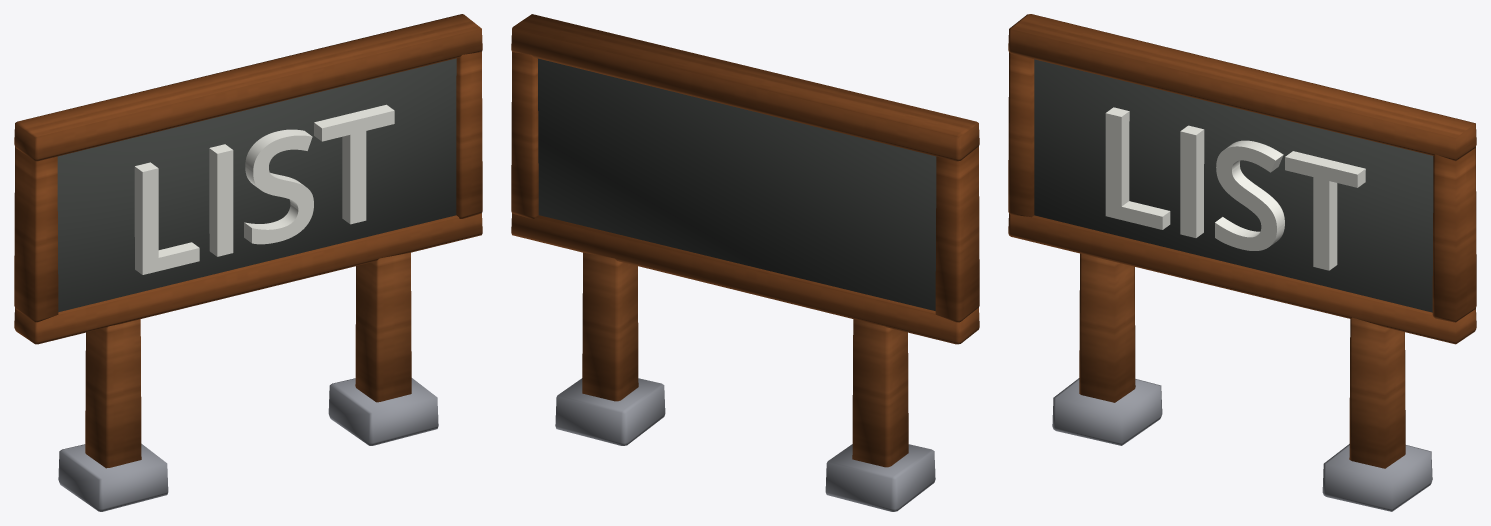
The model's file is 51_sign_list.glb.
The picture shows the model from 3 angles, left to right: view 1: azimuth 30°, elevation 25°; view 2: azimuth 150°, elevation 25°; view 3: azimuth 330°, elevation 25°; orthographic projection.
Visible parts, largest first — view 1: SlateBoard, FrameTop, SignText, FrameBottom, WoodPost_1, WoodPost_-1, FrameSide_-1, StoneBase_-1, StoneBase_1, FrameSide_1; view 2: SlateBoard, FrameTop, FrameBottom, WoodPost_1, WoodPost_-1, FrameSide_-1, StoneBase_-1, StoneBase_1, FrameSide_1; view 3: SlateBoard, FrameTop, SignText, FrameBottom, WoodPost_1, WoodPost_-1, FrameSide_1, StoneBase_-1, StoneBase_1, FrameSide_-1.
Part boxes in pixels (x1,y1,x2,y2): SlateBoard: (57,58,456,312); FrameTop: (14,14,482,161); SignText: (134,104,394,274); FrameBottom: (14,213,482,344); WoodPost_1: (355,252,411,402); WoodPost_-1: (85,319,141,468); FrameSide_-1: (14,147,58,322); StoneBase_-1: (58,443,168,511); StoneBase_1: (328,378,438,445); FrameSide_1: (456,52,482,218); SlateBoard: (538,58,936,310); FrameTop: (511,14,979,161); FrameBottom: (511,213,979,344); WoodPost_1: (582,252,638,401); WoodPost_-1: (852,319,908,467); FrameSide_-1: (935,146,979,322); StoneBase_-1: (825,444,935,511); StoneBase_1: (555,378,665,445); FrameSide_1: (511,52,538,218); SlateBoard: (1034,59,1433,312); FrameTop: (1008,14,1476,161); SignText: (1105,107,1365,270); FrameBottom: (1008,214,1476,344); WoodPost_1: (1349,317,1405,468); WoodPost_-1: (1079,253,1135,402); FrameSide_1: (1432,147,1476,322); StoneBase_-1: (1052,378,1162,445); StoneBase_1: (1322,444,1432,511); FrameSide_-1: (1008,52,1034,217).
Bounding box in the file's own units: 1.3 × 1.06 × 0.21.
5 materials, 2 textured.
